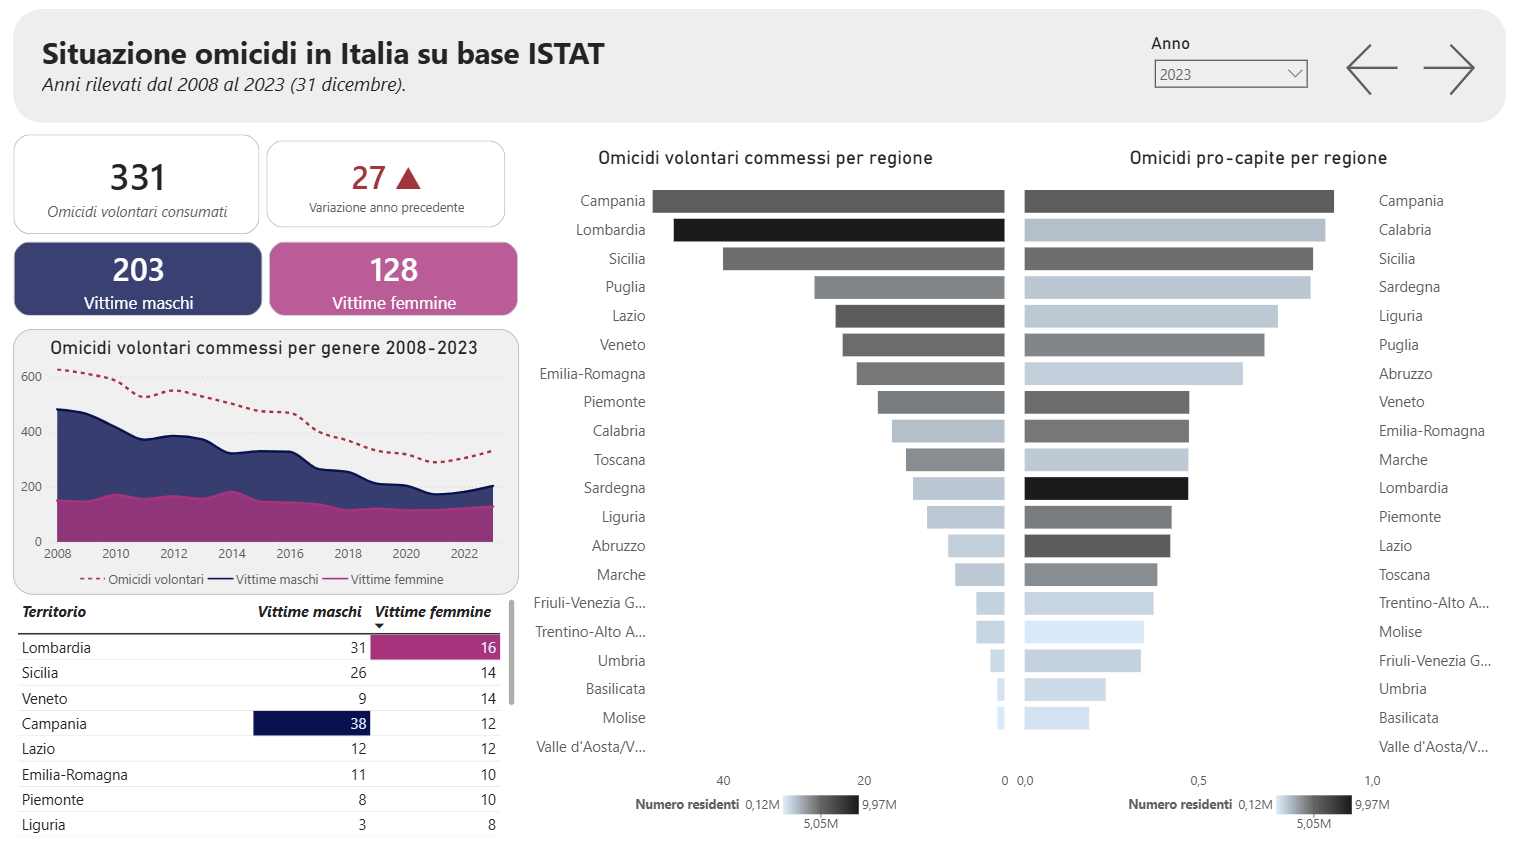

The page's visual inventory and layout, read from the dashboard file:
{"tool":"powerbi","page":{"name":"Omicidi","canvas":[1920,1080],"ordinal":4},"visuals":[{"type":"shape","box":[16,12,1888,144],"z":0,"group":"g1"},{"type":"shape","box":[16,416,640,336],"z":0},{"type":"textbox","box":[48,36,928,96],"z":1000,"group":"g1"},{"type":"cardVisual","fields":{"Data":["Sum(unpivot_df_raw.omicidi_volontari_consumati)"]},"box":[0,152.9,345.5,160.3],"z":1000},{"type":"clusteredBarChart","title":"Omicidi pro-capite per regione","fields":{"Category":["unpivot_df_raw.territorio"],"Y":["Sum(unpivot_df_raw.Omicidi pro-capite)"]},"box":[1280,176,624,880],"z":2000},{"type":"group","id":"g1","title":"Titolo","box":[16,12,1888,144],"z":3000},{"type":"barChart","title":"Omicidi volontari commessi per regione","fields":{"Category":["unpivot_df_raw.territorio"],"Y":["Sum(unpivot_df_raw.omicidi_volontari_consumati)"]},"box":[656,176,624,880],"z":4000},{"type":"slicer","title":"Anno","fields":{"Values":["unpivot_df_raw.anno"]},"box":[1450.2,36.4,212.8,96.2],"z":5000},{"type":"areaChart","title":"Omicidi volontari commessi per genere 2008-2023","fields":{"Category":["unpivot_df_raw.anno"],"Y":["Sum(unpivot_df_raw.omicidi_volontari_consumati)","Sum(unpivot_df_raw.vittime_di_omicidio_maschi)","Sum(unpivot_df_raw.vittime_di_omicidio_femmine)"]},"box":[16,416,640,336],"z":6000},{"type":"cardVisual","fields":{"Data":["Sum(unpivot_df_raw.vittime_di_omicidio_maschi)","Sum(unpivot_df_raw.vittime_di_omicidio_femmine)"]},"box":[0,288,672,128],"z":7000},{"type":"tableEx","fields":{"Values":["unpivot_df_raw.territorio","Sum(unpivot_df_raw.vittime_di_omicidio_maschi)","Sum(unpivot_df_raw.vittime_di_omicidio_femmine)"]},"box":[16,752,640,320],"z":8000},{"type":"cardVisual","fields":{"Data":["unpivot_df_raw.Icona Segno"]},"box":[320,160,336,144],"z":9000},{"type":"actionButton","box":[1792,48,96,80],"z":10000},{"type":"actionButton","box":[1696,48,96,80],"z":11000}]}

Visuals, with their boxes in screenshot pixels (x1, y1, x2, y2), scaled from the page's 1920x1080 canvas onto the 1517x853 screenshot:
shape: detection(13, 9, 1504, 123)
shape: detection(13, 329, 518, 594)
textbox: detection(38, 28, 771, 104)
cardVisual - Sum(unpivot_df_raw.omicidi_volontari_consumati): detection(0, 121, 273, 247)
"Omicidi pro-capite per regione" clusteredBarChart: detection(1011, 139, 1504, 834)
"Titolo" group: detection(13, 9, 1504, 123)
"Omicidi volontari commessi per regione" barChart: detection(518, 139, 1011, 834)
"Anno" slicer: detection(1146, 29, 1314, 105)
"Omicidi volontari commessi per genere 2008-2023" areaChart: detection(13, 329, 518, 594)
cardVisual - Sum(unpivot_df_raw.vittime_di_omicidio_maschi) x Sum(unpivot_df_raw.vittime_di_omicidio_femmine): detection(0, 227, 531, 329)
tableEx - unpivot_df_raw.territorio x Sum(unpivot_df_raw.vittime_di_omicidio_maschi): detection(13, 594, 518, 847)
cardVisual - unpivot_df_raw.Icona Segno: detection(253, 126, 518, 240)
actionButton: detection(1416, 38, 1492, 101)
actionButton: detection(1340, 38, 1416, 101)
